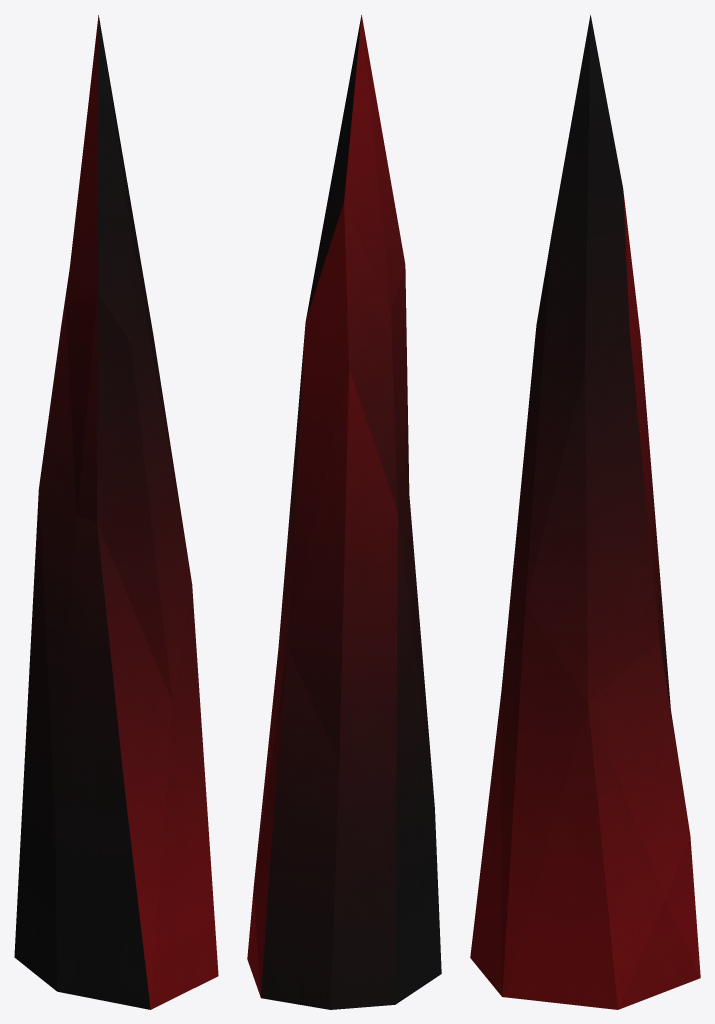
File: Spike2.fbx
3 renders of one model, left to right at view 1: azimuth 30°, elevation 25°; view 2: azimuth 150°, elevation 25°; view 3: azimuth 270°, elevation 25°, orthographic.
Parts seen in each view (by area): view 1: Spike2; view 2: Spike2; view 3: Spike2.
Boxes of the visible parts, bbox=[...] form: Spike2: bbox=[14, 15, 218, 1009]; Spike2: bbox=[247, 15, 441, 1009]; Spike2: bbox=[470, 15, 700, 1009].
Size of the model in its own units: 1.54 by 8.76 by 1.93.
1 material, 1 textured.
